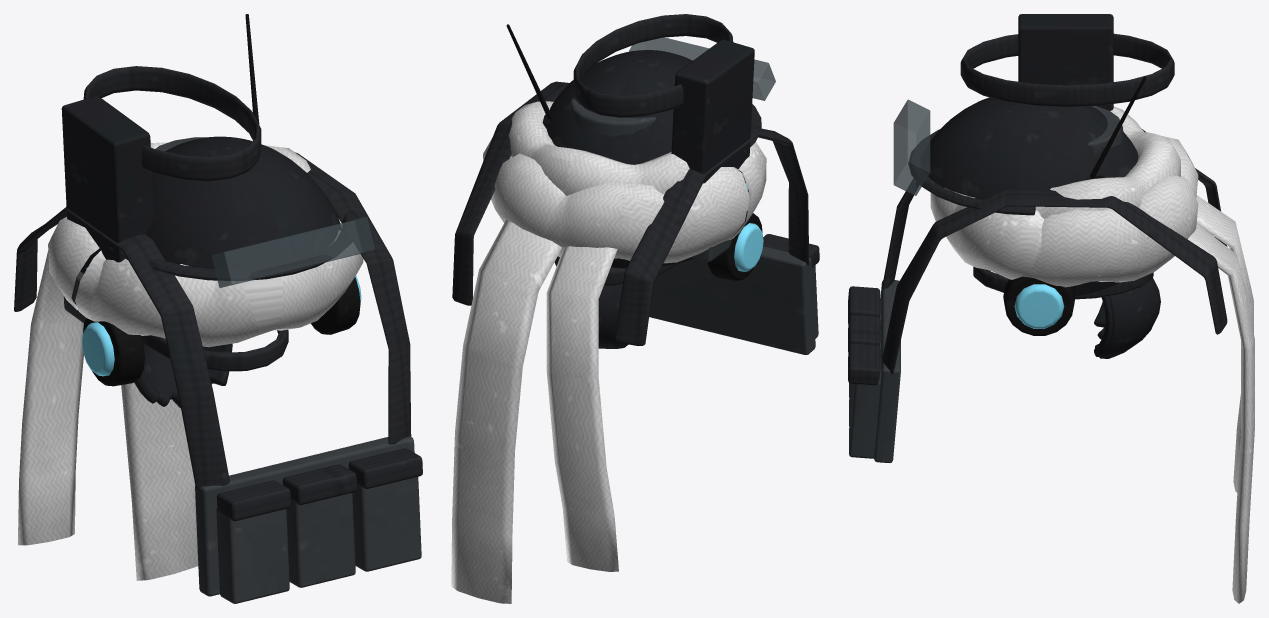
The model's file is kit_ling.glb.
3 renders of one model, left to right at view 1: azimuth 30°, elevation 25°; view 2: azimuth 150°, elevation 25°; view 3: azimuth 270°, elevation 25°, orthographic. The views are drawn at different scales.
Visible parts, largest first — view 1: mixamorigSpine2__chestrig, mixamorigHead__helmet, mixamorigRightUpLeg__holster, mixamorigSpine2__scarf, mixamorigSpine2__tail_r, mixamorigSpine2__tail_l, mixamorigHead__headset, mixamorigRightLeg__kneepad; view 2: mixamorigSpine2__chestrig, mixamorigSpine2__tail_l, mixamorigSpine2__scarf, mixamorigSpine2__tail_r, mixamorigRightUpLeg__holster, mixamorigHead__helmet, mixamorigHead__headset, mixamorigLeftLeg__kneepad, mixamorigRightForeArm__cuff; view 3: mixamorigSpine2__scarf, mixamorigHead__helmet, mixamorigSpine2__chestrig, mixamorigRightUpLeg__holster, mixamorigSpine2__tail_l, mixamorigLeftLeg__kneepad, mixamorigHead__headset, mixamorigSpine2__tail_r, mixamorigRightLeg__kneepad, mixamorigRightForeArm__cuff.
Boxes of the visible parts, x1,y1,x2,y2 form: mixamorigSpine2__chestrig: [14, 152, 422, 603]; mixamorigHead__helmet: [86, 14, 374, 287]; mixamorigRightUpLeg__holster: [61, 66, 261, 323]; mixamorigSpine2__scarf: [48, 142, 363, 347]; mixamorigSpine2__tail_r: [18, 250, 83, 545]; mixamorigSpine2__tail_l: [121, 382, 198, 580]; mixamorigHead__headset: [81, 276, 361, 386]; mixamorigRightLeg__kneepad: [135, 329, 288, 407]; mixamorigSpine2__chestrig: [452, 81, 819, 354]; mixamorigSpine2__tail_l: [451, 219, 562, 603]; mixamorigSpine2__scarf: [483, 101, 766, 263]; mixamorigSpine2__tail_r: [546, 246, 618, 571]; mixamorigRightUpLeg__holster: [573, 14, 754, 261]; mixamorigHead__helmet: [506, 24, 775, 268]; mixamorigHead__headset: [707, 210, 763, 280]; mixamorigLeftLeg__kneepad: [554, 256, 679, 348]; mixamorigRightForeArm__cuff: [569, 98, 656, 136]; mixamorigSpine2__scarf: [930, 106, 1198, 287]; mixamorigHead__helmet: [893, 76, 1146, 295]; mixamorigSpine2__chestrig: [848, 129, 1227, 462]; mixamorigRightUpLeg__holster: [960, 14, 1174, 110]; mixamorigSpine2__tail_l: [1187, 223, 1254, 603]; mixamorigLeftLeg__kneepad: [985, 269, 1160, 358]; mixamorigHead__headset: [1003, 276, 1075, 335]; mixamorigSpine2__tail_r: [1196, 195, 1253, 492]; mixamorigRightLeg__kneepad: [973, 266, 1112, 358]; mixamorigRightForeArm__cuff: [1088, 106, 1123, 147].
Bounding box in the file's own units: 32.71 × 66.9 × 46.95.
Materials: 4 (2 with a texture image).
